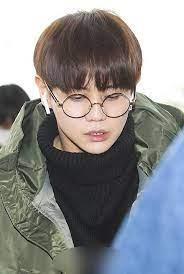earphone: (36, 85, 56, 116)
